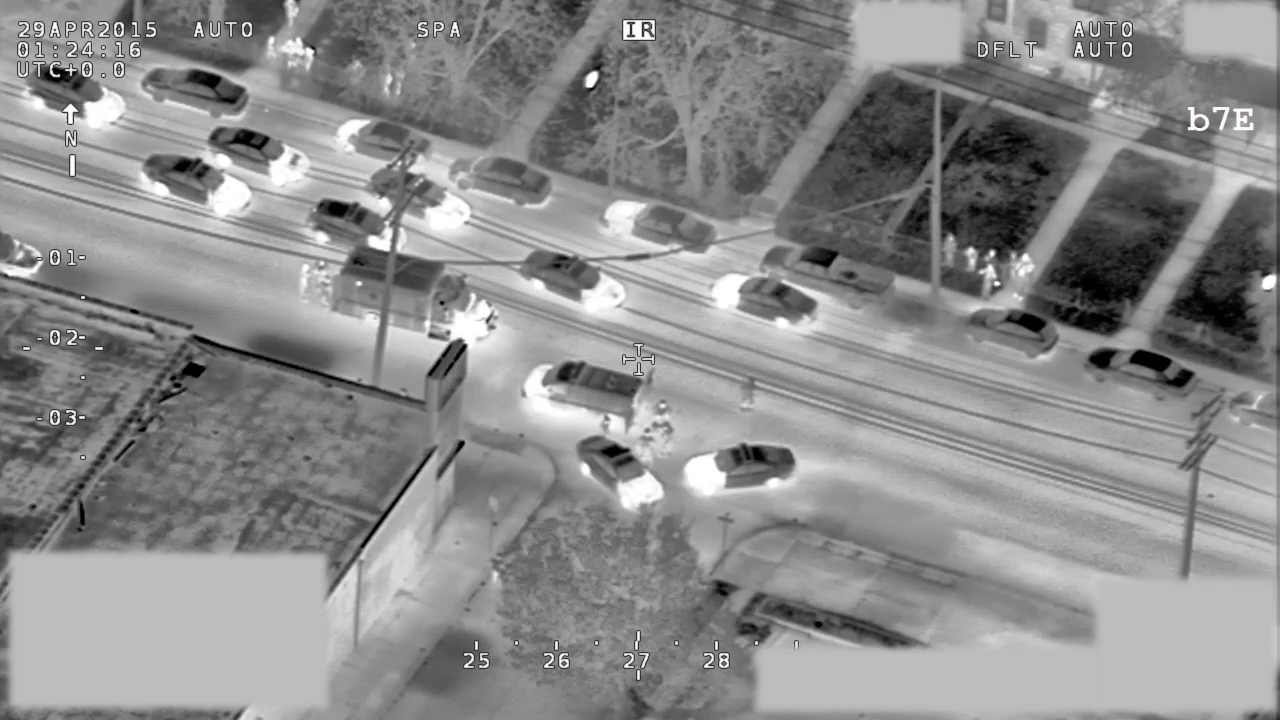vehicle: (320, 243, 502, 347), (760, 233, 899, 319), (518, 357, 659, 432), (599, 192, 722, 263), (517, 243, 628, 317), (142, 146, 254, 219), (708, 267, 822, 336), (1082, 340, 1199, 407), (679, 435, 799, 499), (369, 163, 472, 233), (206, 124, 313, 191), (575, 435, 666, 512), (447, 147, 555, 211), (136, 60, 251, 119), (23, 61, 127, 126), (304, 198, 410, 256), (332, 114, 435, 172), (962, 302, 1059, 361), (1224, 382, 1280, 431), (1, 231, 44, 280)
